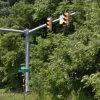Traffic light: (37, 7, 76, 34)
